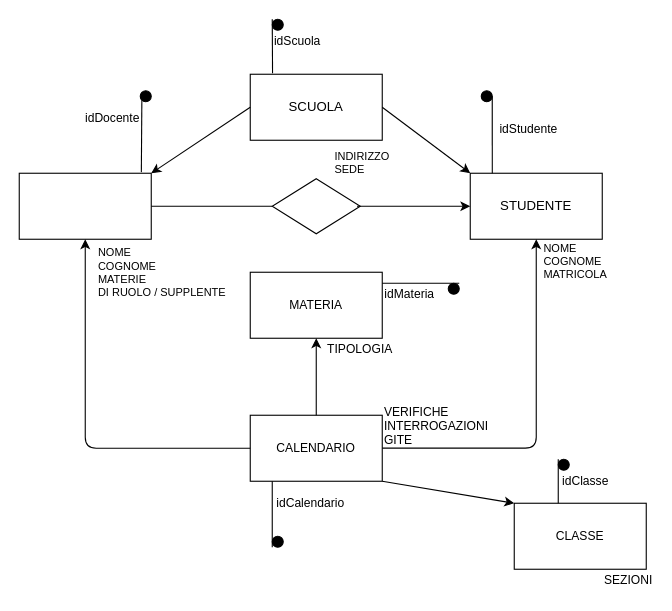
The diagram is 672 pixels wide and 611 high, and some of its shapes have lost their labels. The shapes that lost their labels are listed below. From the top down, each one's centre as x and y in pixels, then its label:
[84,205]: DOCENTE
[315,206]: INSEGNA
